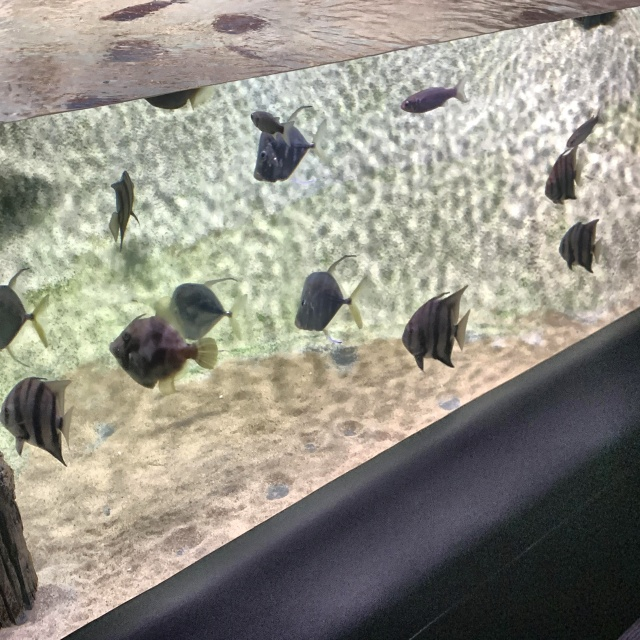fish: (108, 312, 220, 391), (1, 373, 77, 468), (400, 282, 473, 374), (292, 252, 371, 335), (252, 100, 327, 186), (0, 264, 54, 370), (166, 273, 241, 343), (106, 169, 140, 251), (399, 79, 471, 117), (557, 218, 604, 276), (544, 145, 585, 207), (144, 83, 203, 114), (566, 109, 603, 155), (249, 107, 288, 143), (576, 8, 616, 33)
